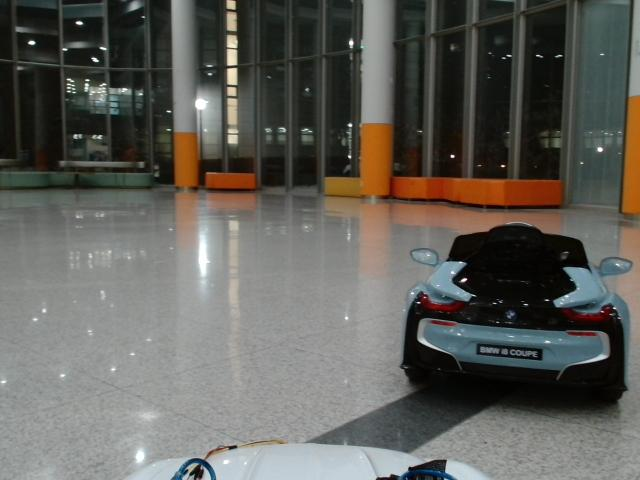car: (401, 222, 633, 407)
